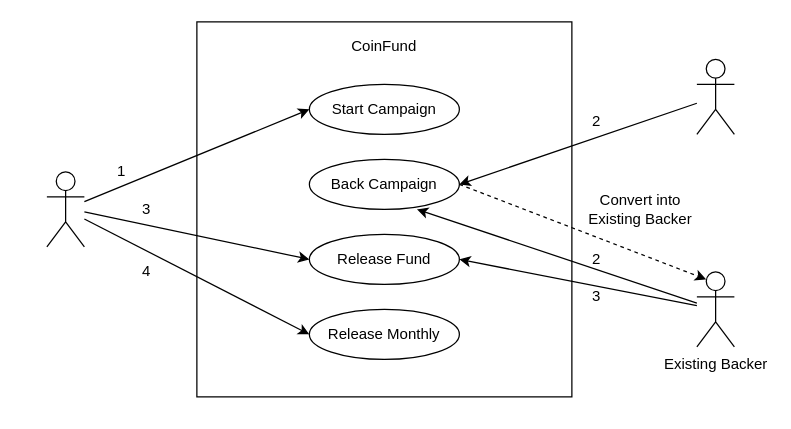
Image size: 791x429. Some labels were removed from this diagram. Here are the shapes that lost their labels. From the top down, the box of each, then its label:
(696, 58, 734, 134): Potential Backer
(46, 171, 84, 247): Entrepreneur
